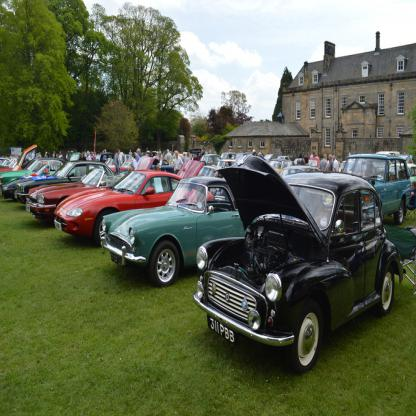Car: (0, 145, 416, 375)
